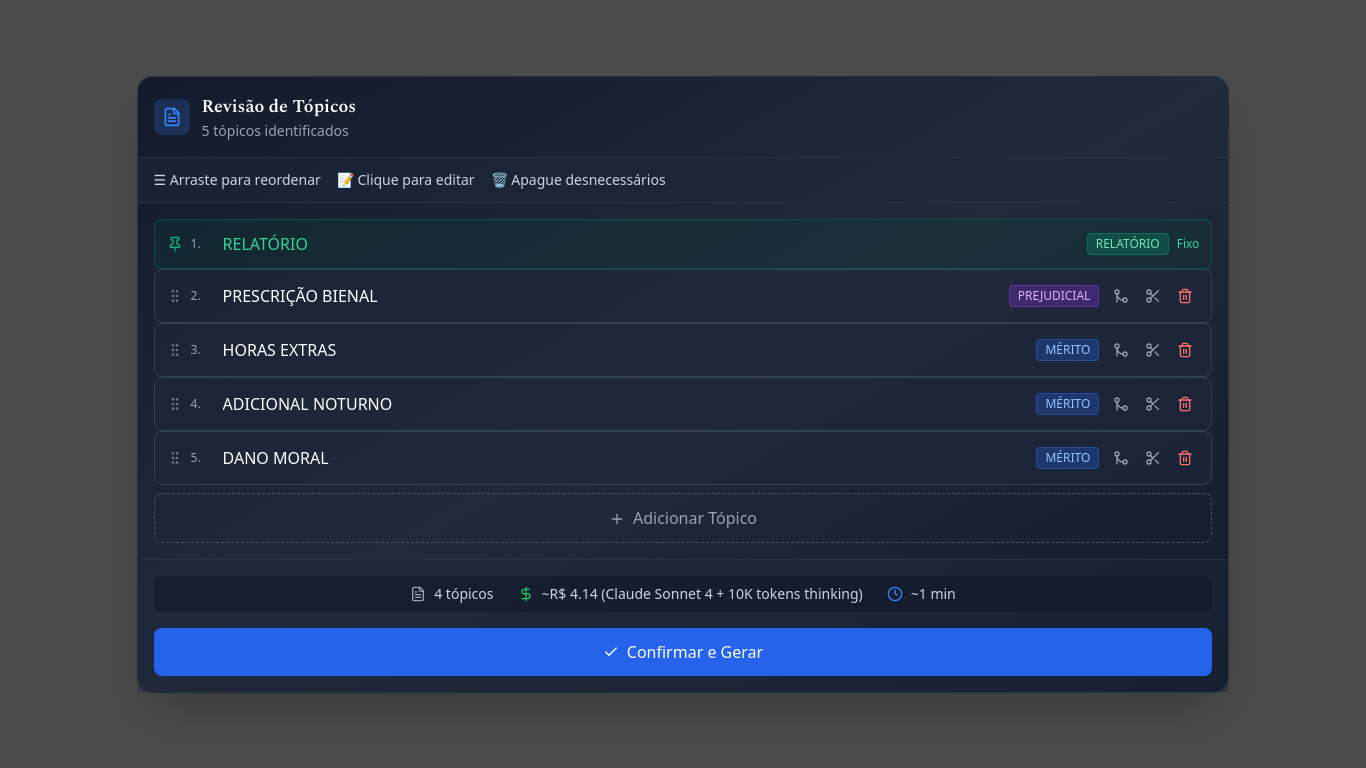
TopicCurationModal - Exclusão › deve mostrar botão de desfazer após exclusão
The width and height of the screenshot is (1366, 768).
Excluir um tópico
Click the button titled "Remover tópico" in the row of "HORAS EXTRAS" at (1185, 350), box [1171,336,1199,364]
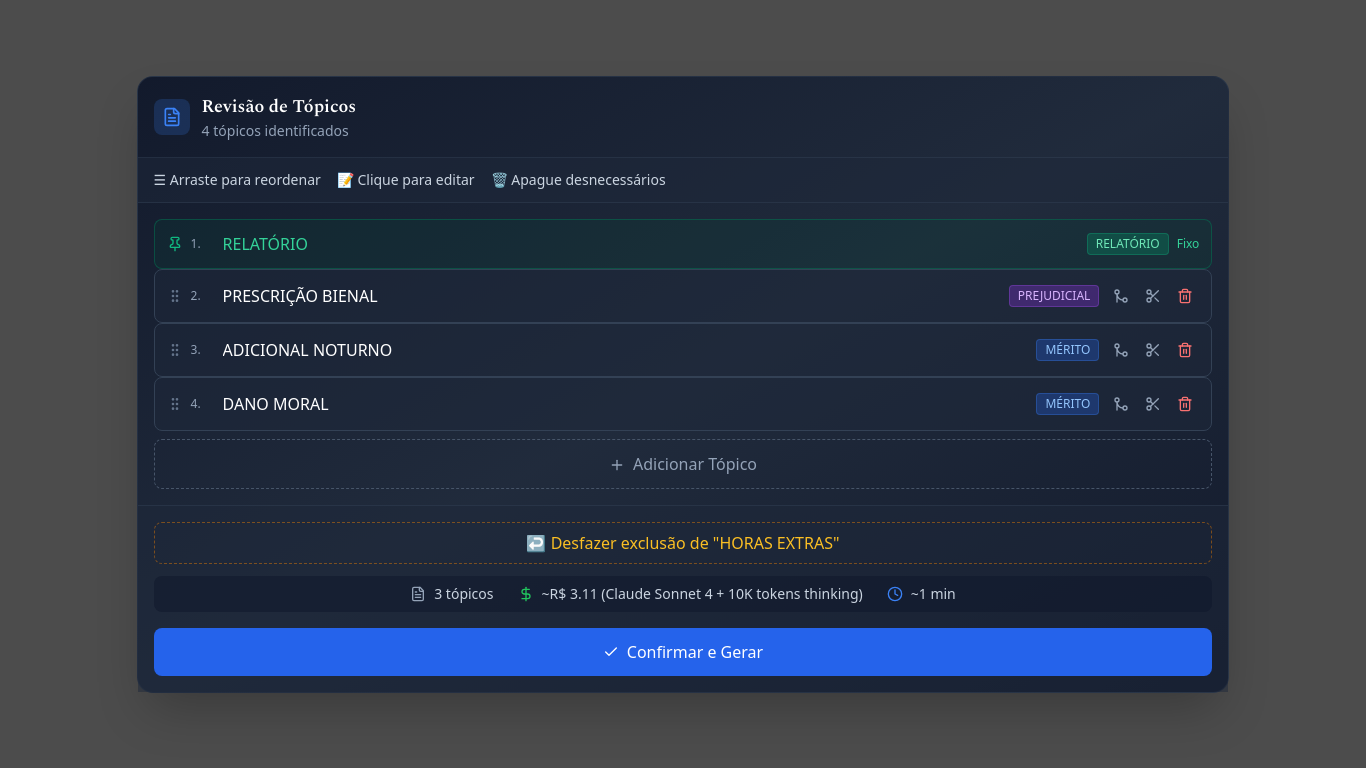
Now the button "↩️ Desfazer exclusão de \"HORAS EXTRAS\"" is shown, box [154,522,1212,564]
